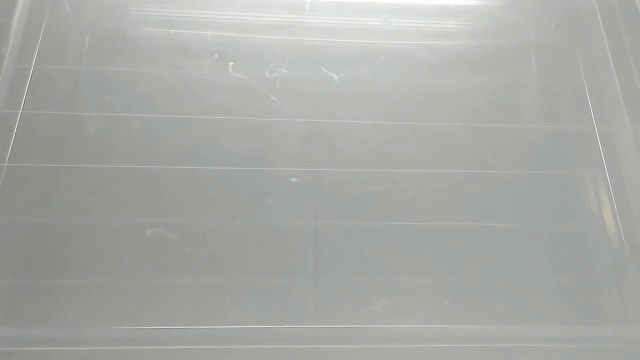alpha: (283, 172, 308, 188)
